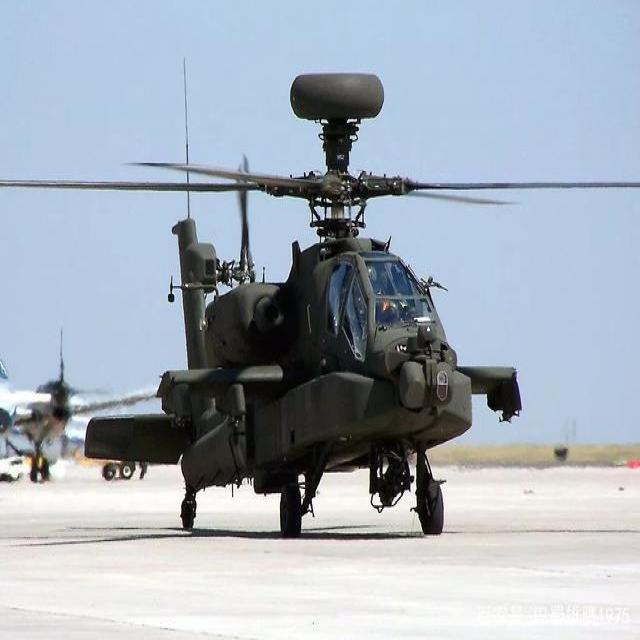MIL_HELO: (11, 65, 640, 542)
